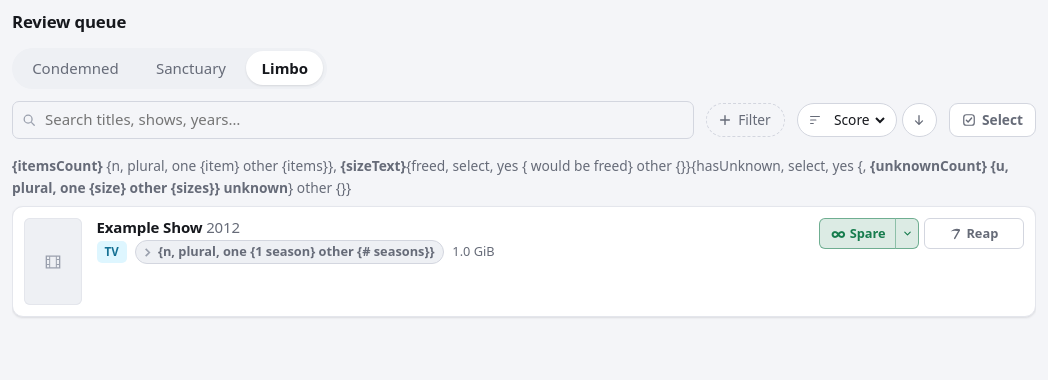
Test: the expanded season list through a failed refetch › still says it couldn't load the seasons when the first read is the one that fails
Click the button "{n, plural, one {1 season} other {# seasons}}" at (290, 252), box x1=135 y1=240 x2=444 y2=264
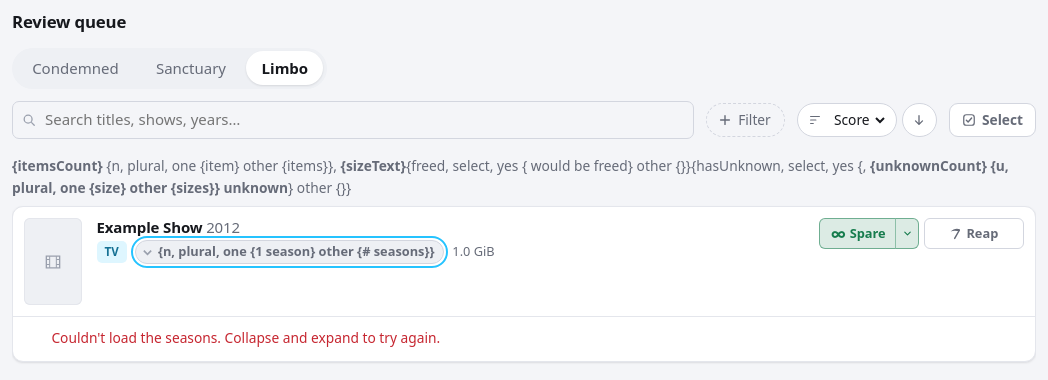
Expected: the text "Couldn't load the seasons. Collapse and expand to try again." is shown, x1=13 y1=316 x2=1035 y2=361
